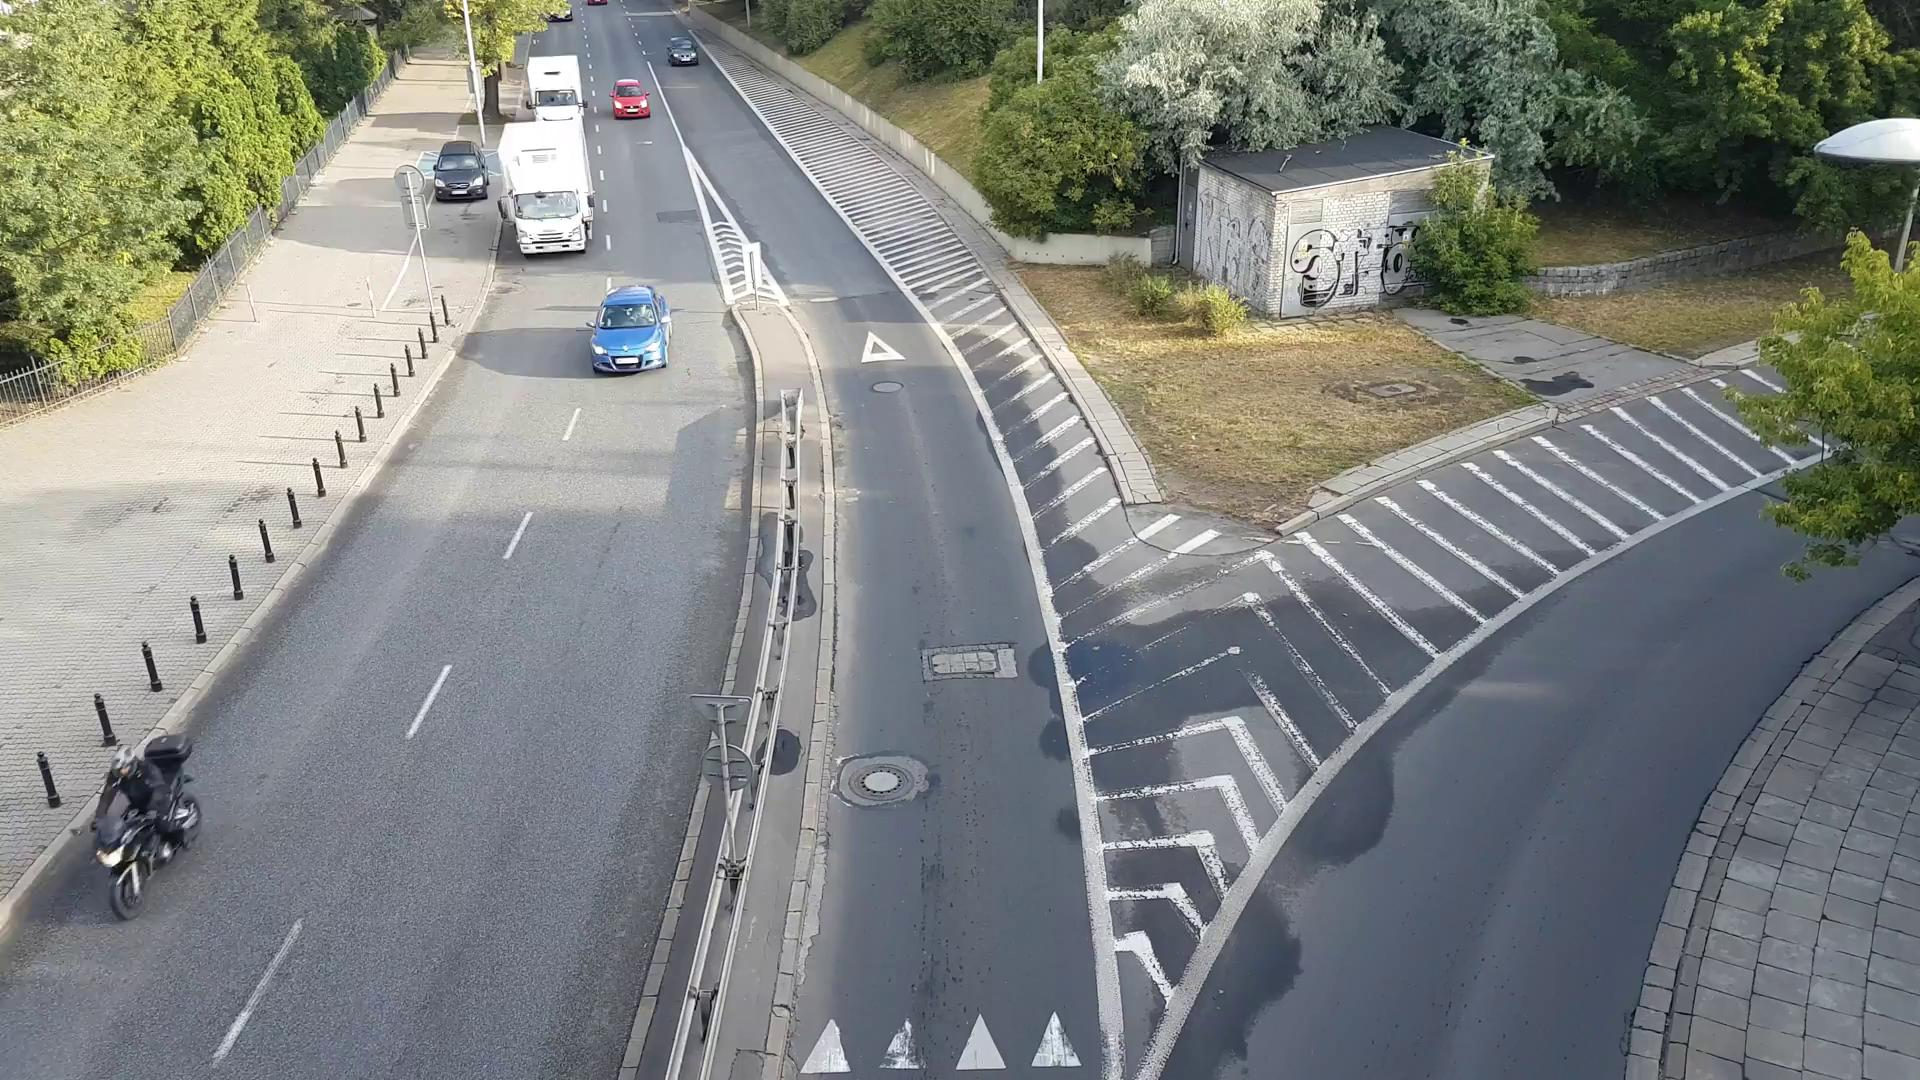bike: (85, 716, 215, 923)
car: (581, 273, 683, 383), (426, 127, 492, 210), (655, 29, 709, 75), (605, 73, 654, 121)
truck: (489, 105, 616, 260), (513, 46, 596, 120)
